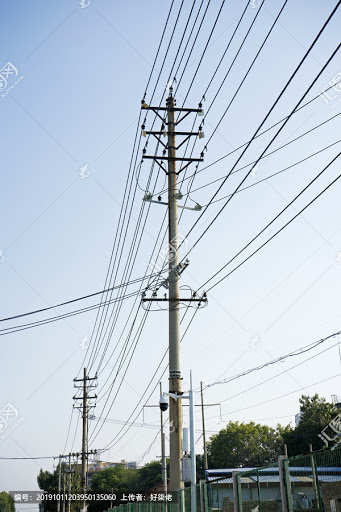utility_pole: (129, 72, 211, 189)
